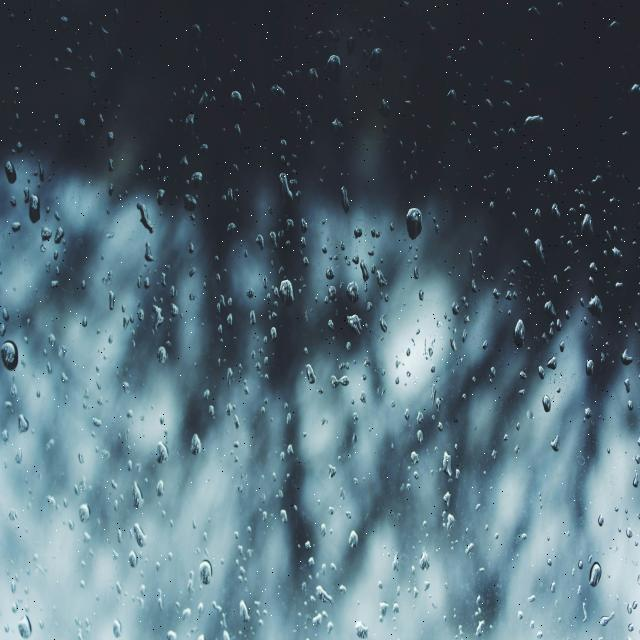raindrop: (272, 264, 304, 320), (584, 274, 616, 330), (400, 197, 428, 254), (24, 177, 47, 236), (510, 302, 533, 358), (0, 326, 22, 379), (183, 424, 208, 470), (194, 554, 219, 593), (4, 148, 24, 192)
